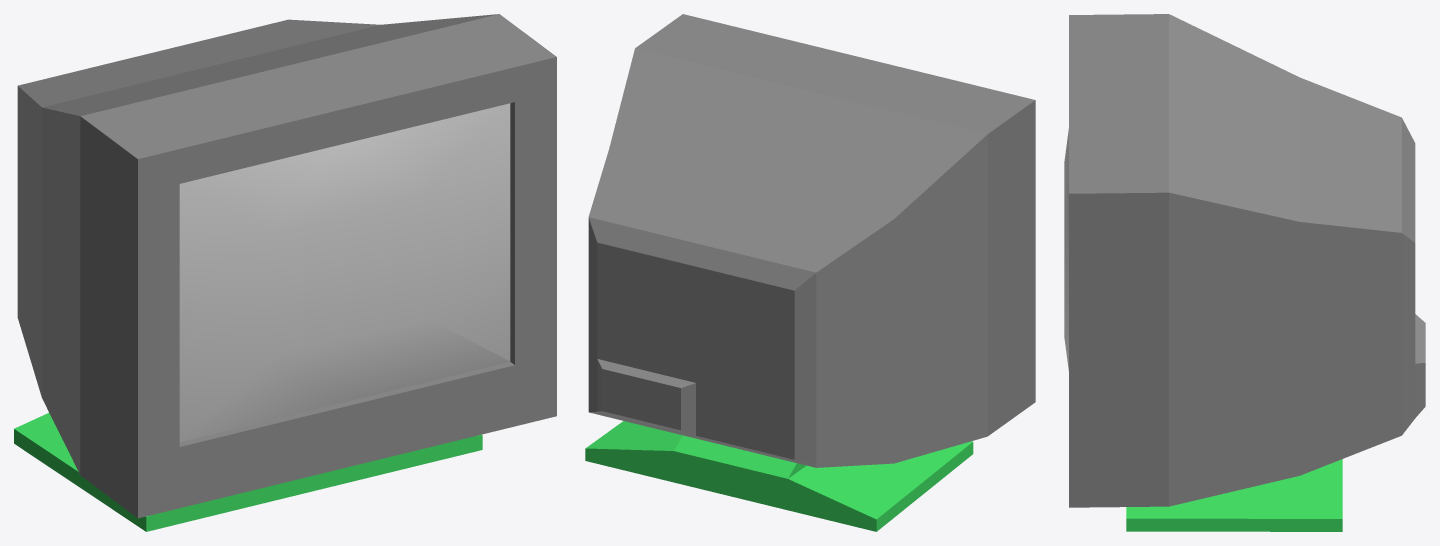
File: crt_monitor.glb
3 views of the same model, side by side, from view 1: azimuth 30°, elevation 25°; view 2: azimuth 150°, elevation 25°; view 3: azimuth 270°, elevation 25° (orthographic). The views are drawn at different scales.
Visible parts, largest first — view 1: box2, screen3, stand1; view 2: box2, stand1; view 3: box2, stand1, screen3.
Boxes of the visible parts, x1,y1,x2,y2 form: box2: [17, 14, 556, 518]; screen3: [179, 103, 510, 442]; stand1: [14, 413, 482, 531]; box2: [588, 14, 1035, 467]; stand1: [585, 421, 973, 531]; box2: [1069, 14, 1425, 507]; stand1: [1126, 459, 1342, 531]; screen3: [1064, 129, 1068, 370].
Size of the model in its own units: 0.548 by 0.5095 by 0.4677.
